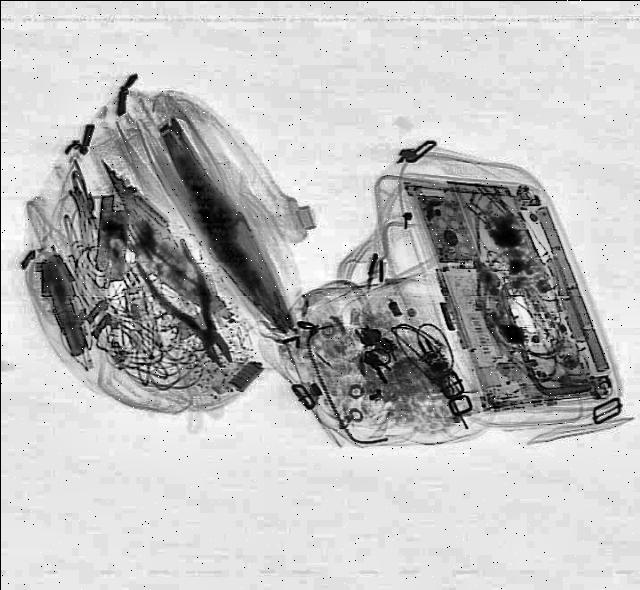Pliers: (128, 232, 255, 376)
